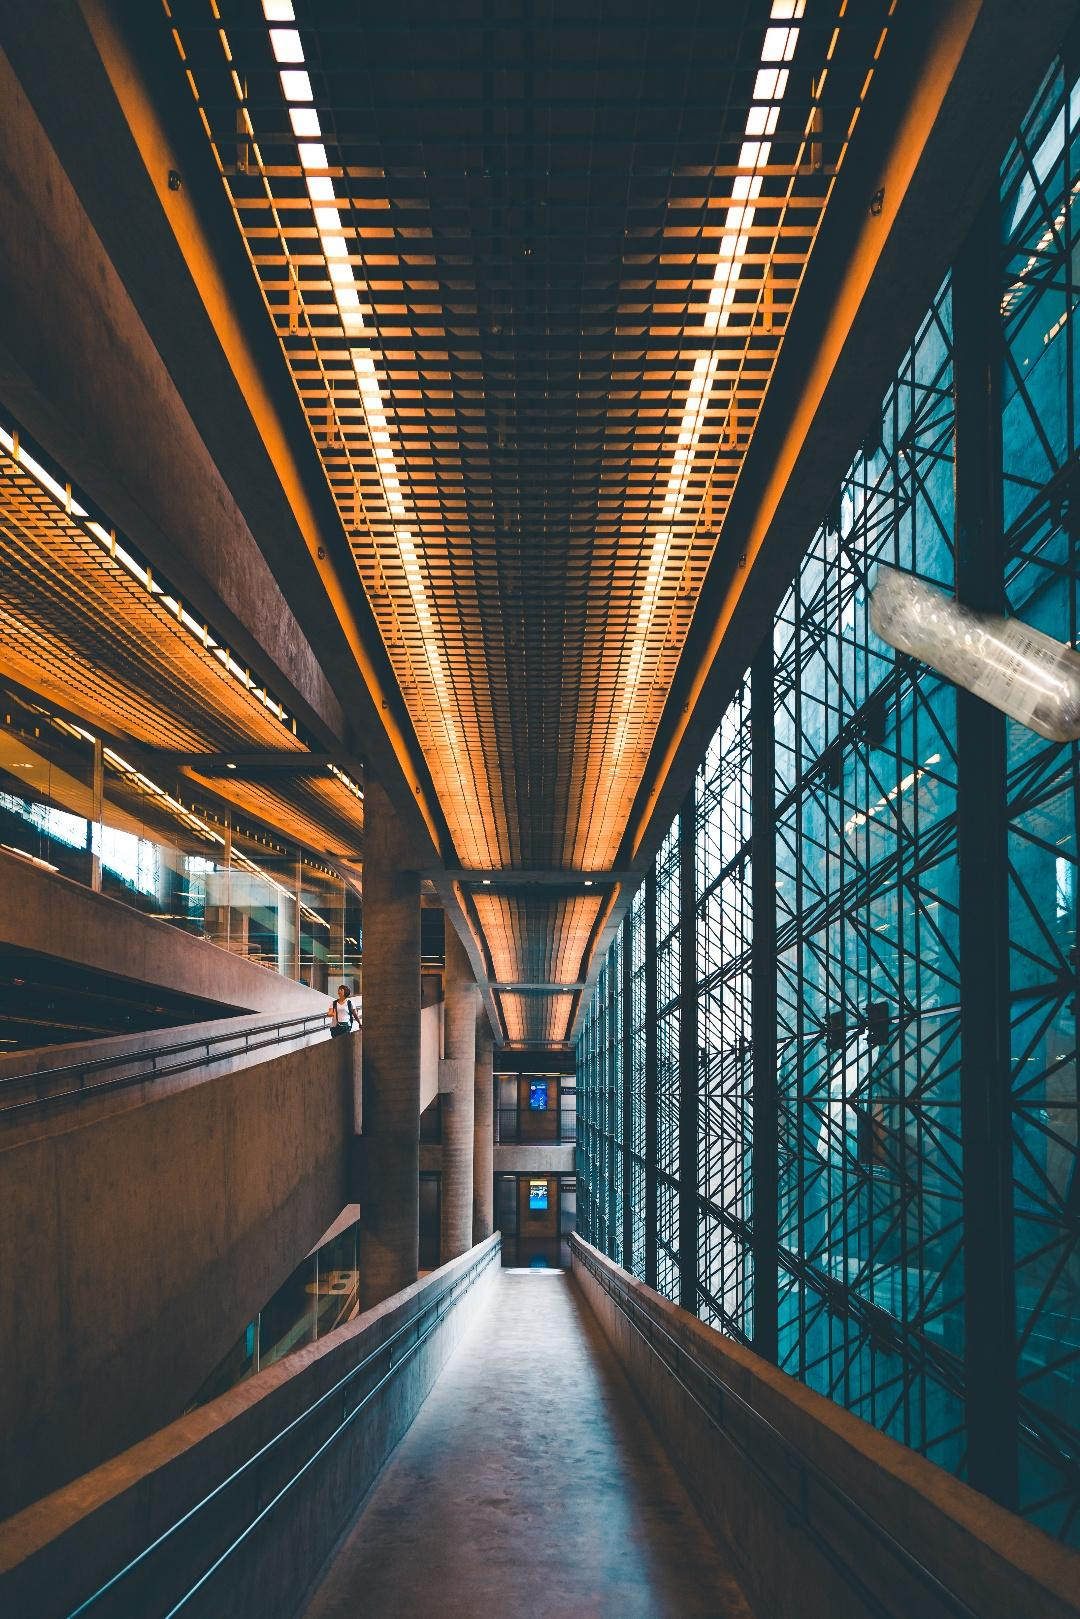plastic-bottles: (787, 470, 1080, 761)
